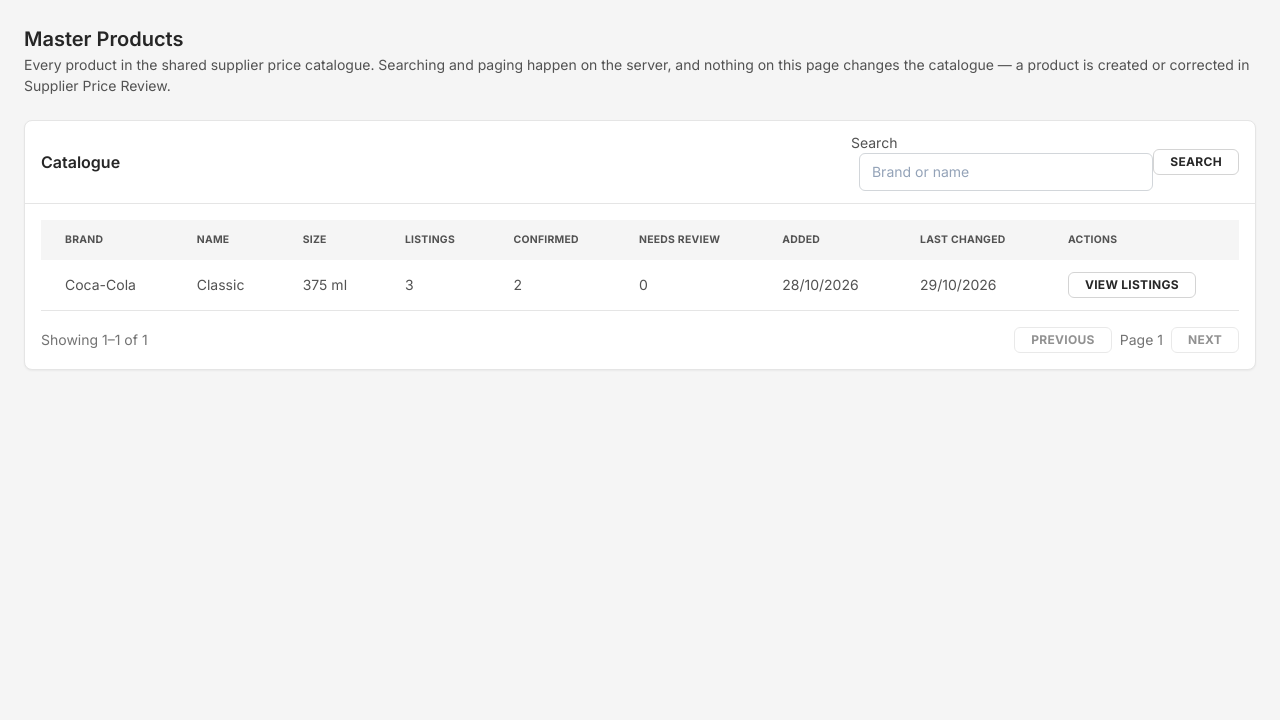
Test: SuperAdminMasterProductsComponent (issue #1023) › opens and closes one product’s supplier listings
Click the button "View listings".
click(1132, 285)  # box [1068,272,1196,298]
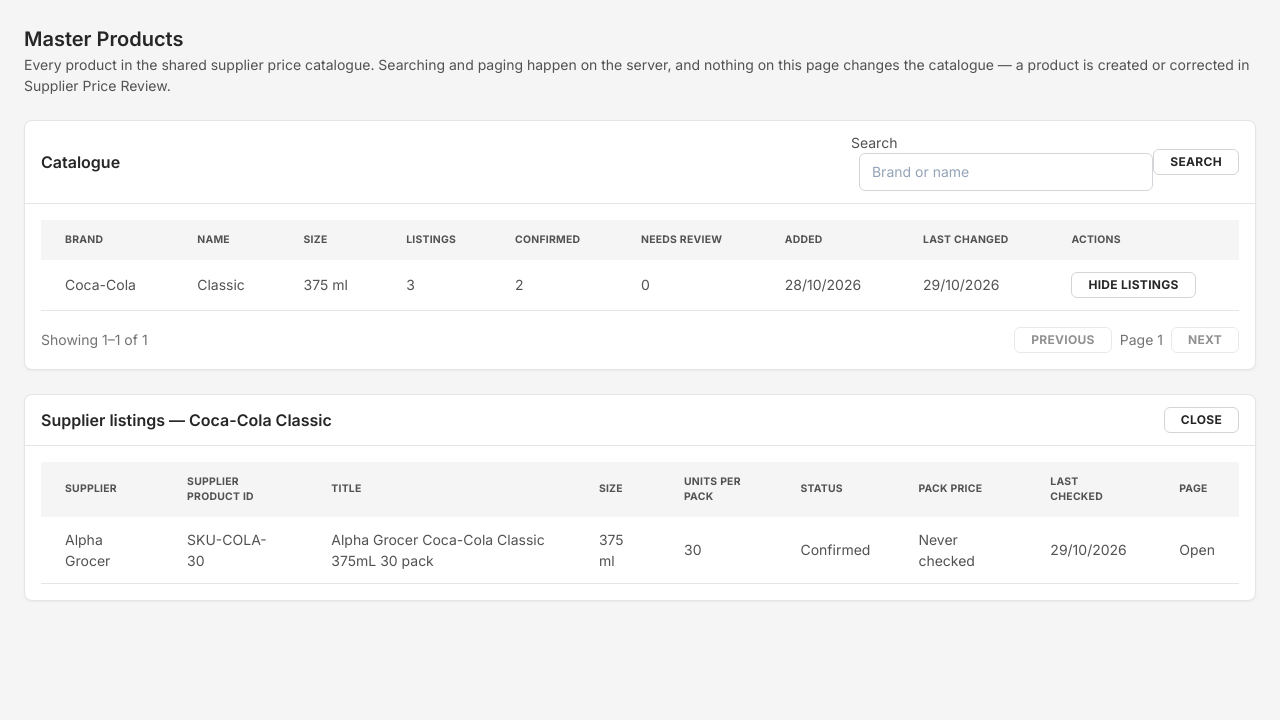
Expected: the element with test id "master-product-detail" is shown, [24,394,1256,601]
Expected: the element with test id "master-product-detail" shows "Alpha Grocer", [65,531,110,569]
Click the button "Close".
click(1201, 420)  # box [1164,407,1239,433]
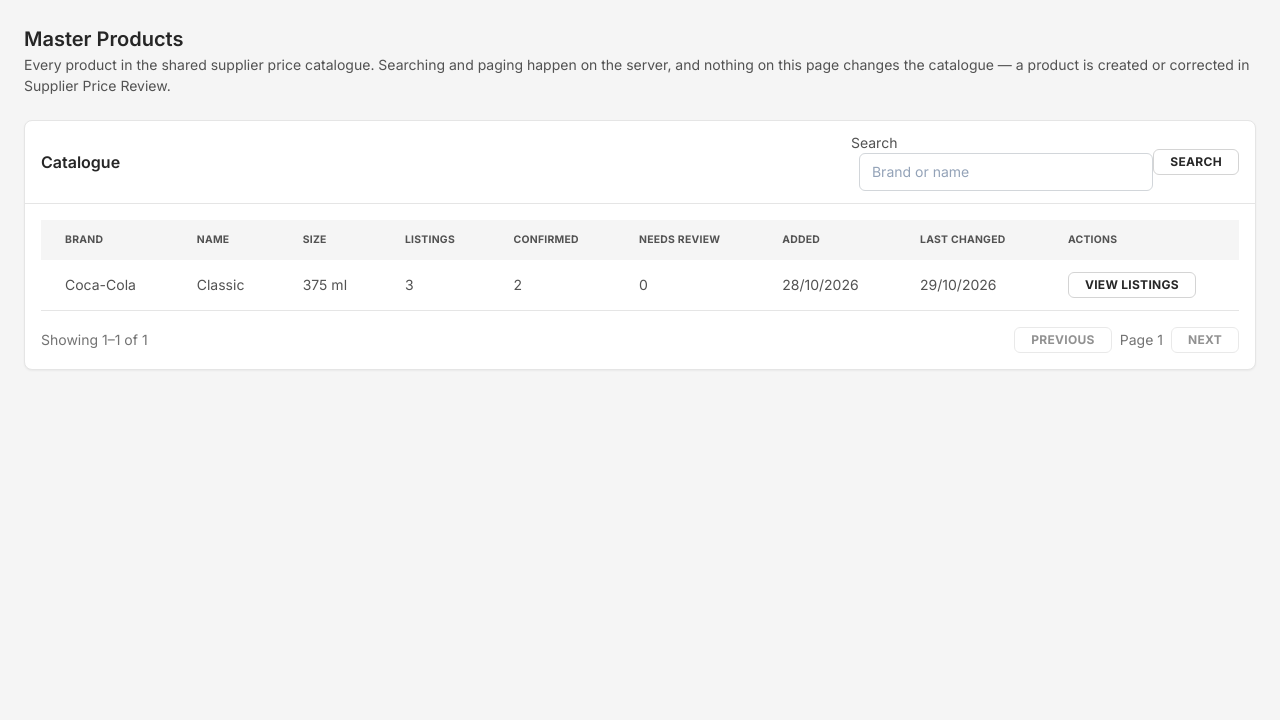
Expected: the element with test id "master-product-detail" is gone
